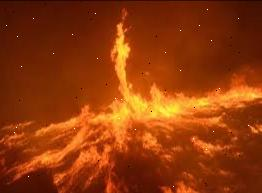fire: (0, 9, 260, 191)
